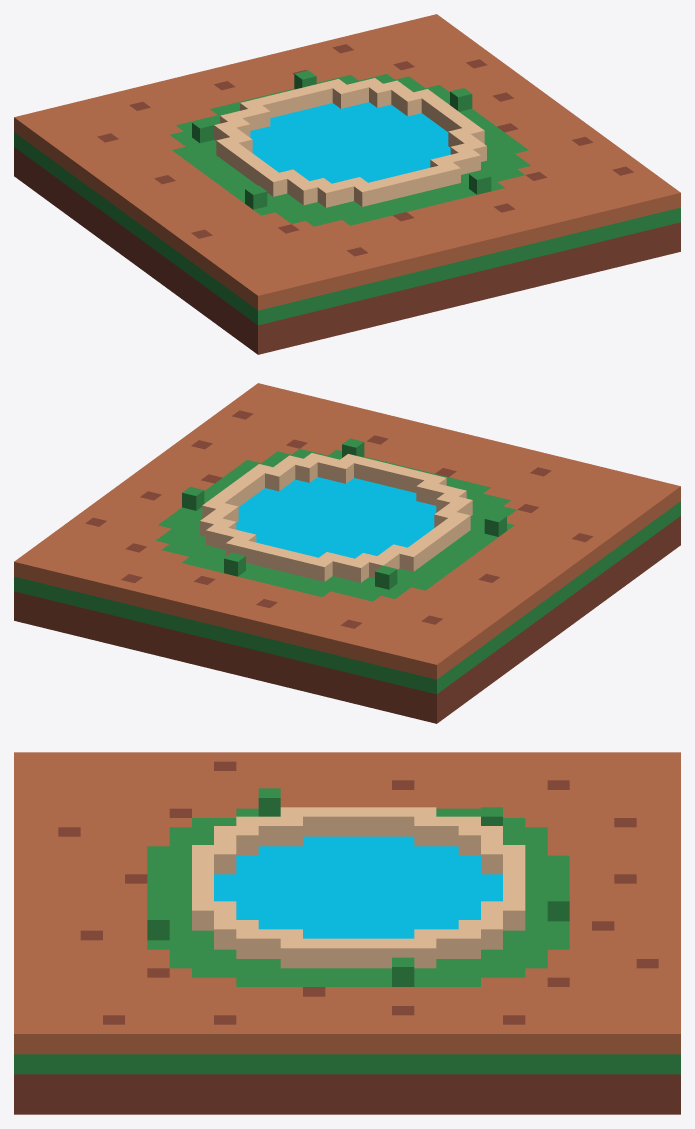
The model's file is ParkTile04.obj.
3 views of the same model, one above another, from view 1: azimuth 30°, elevation 25°; view 2: azimuth 150°, elevation 25°; view 3: azimuth 270°, elevation 25° (orthographic). The views are drawn at different scales.
Size of the model in its own units: 3 by 0.5 by 3.
Materials: 1 (1 with a texture image).
